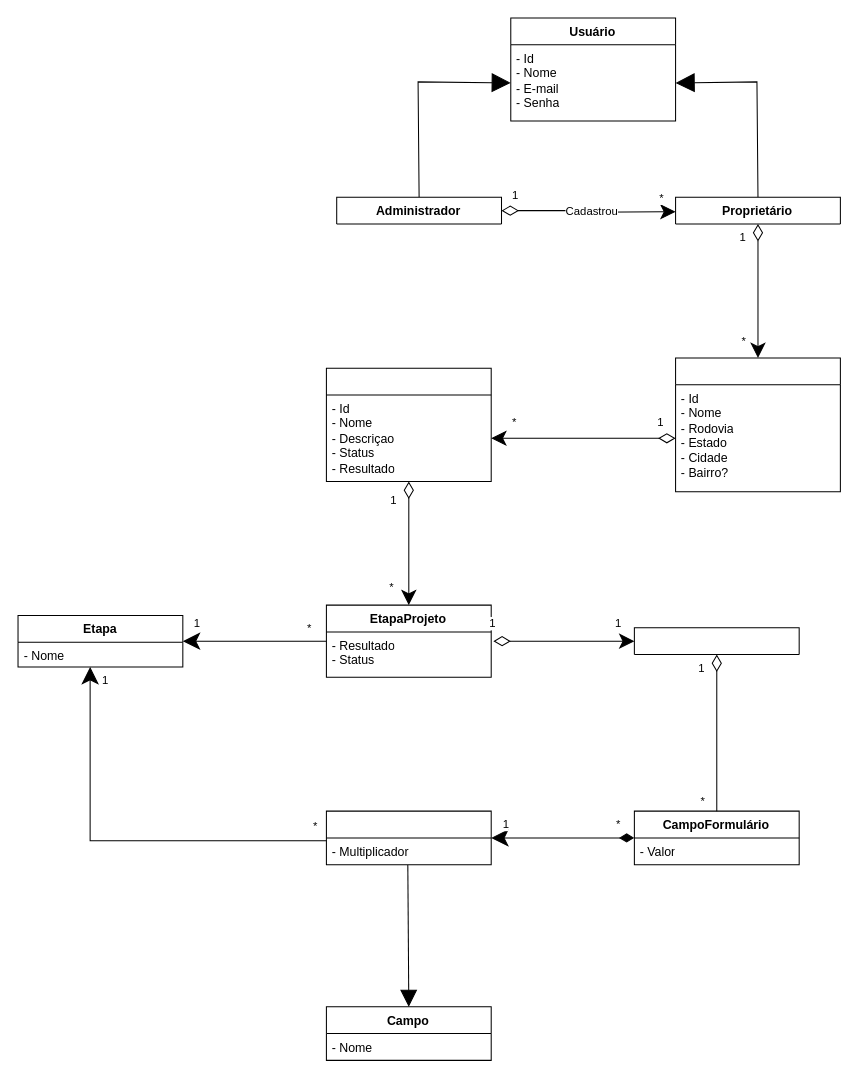
Some shapes in this 859 by 1082 pixel diagram are drawn without their labels. Each missing label, with the box of its shape:
CampoEtapa: (325, 810, 491, 865)
Formulário: (633, 627, 799, 655)
Projeto: (325, 367, 491, 482)
Propriedade: (675, 357, 840, 492)
